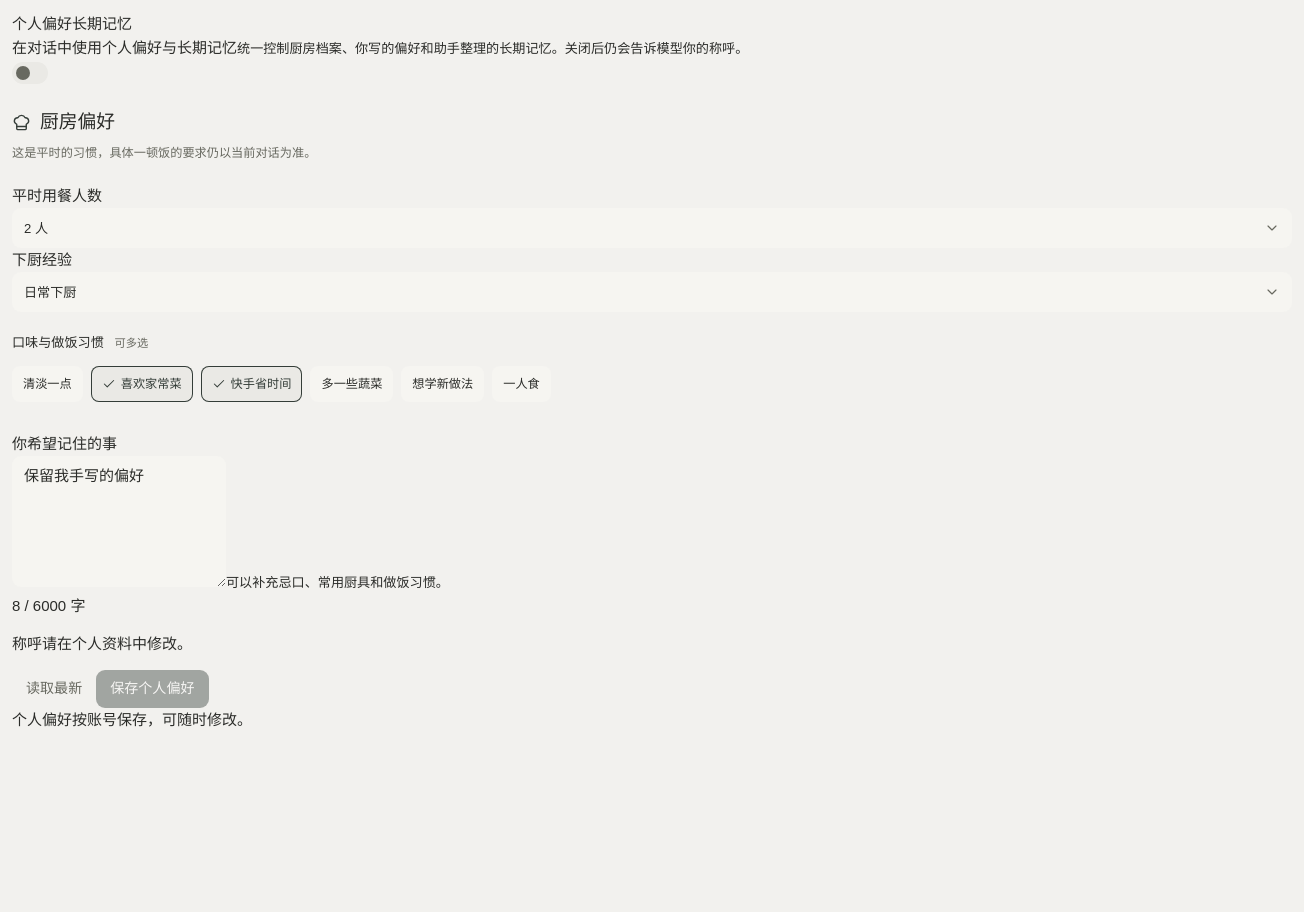
Test: Personal preferences and long-term memory › keeps editable kitchen fields visible while sharing is disabled and saves their shared flag together
Click the switch labelled "在对话中使用个人偏好与长期记忆": x=30, y=73 [12,62,48,84]
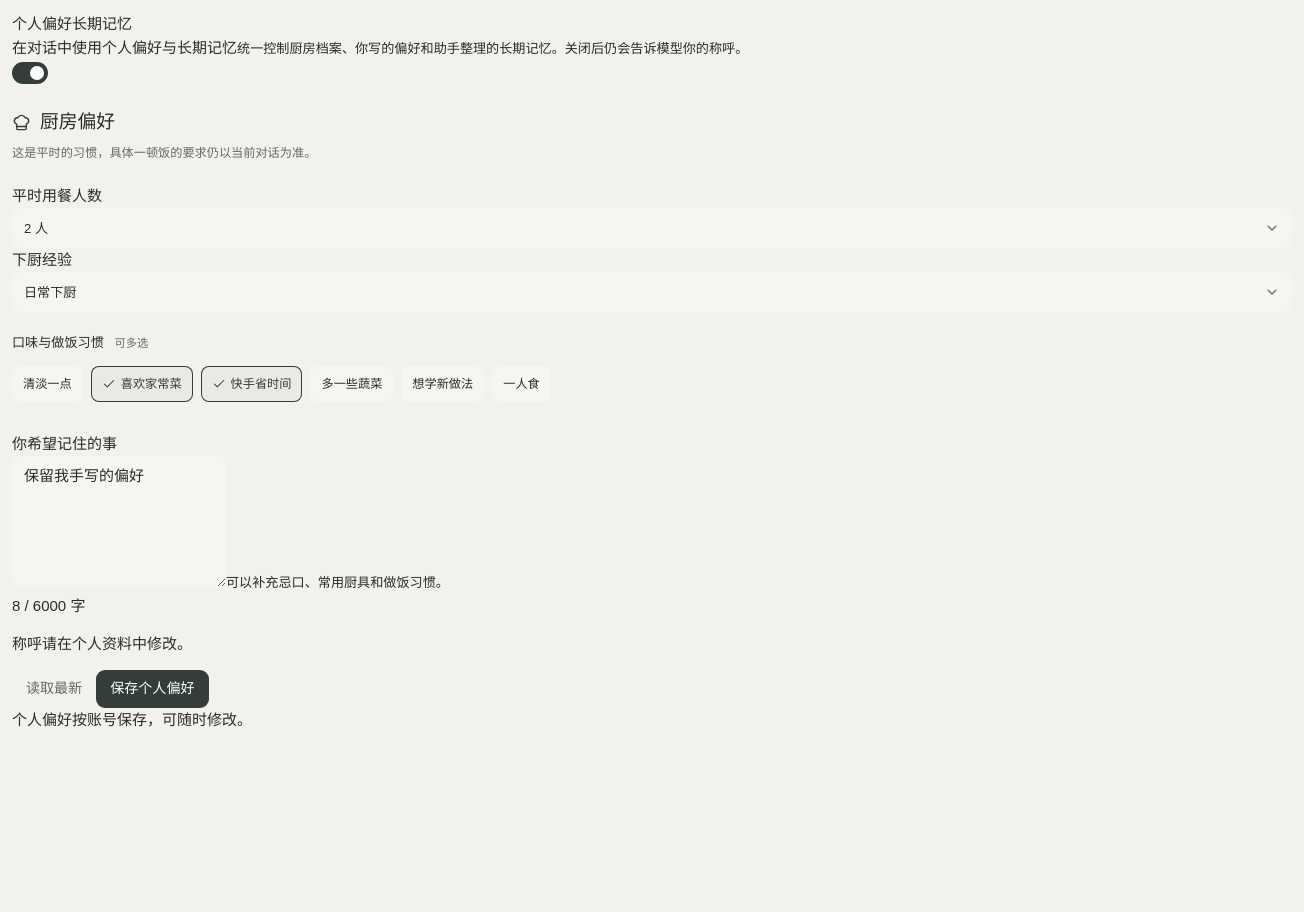
Click the button "快手省时间": x=252, y=384 [201,366,302,402]
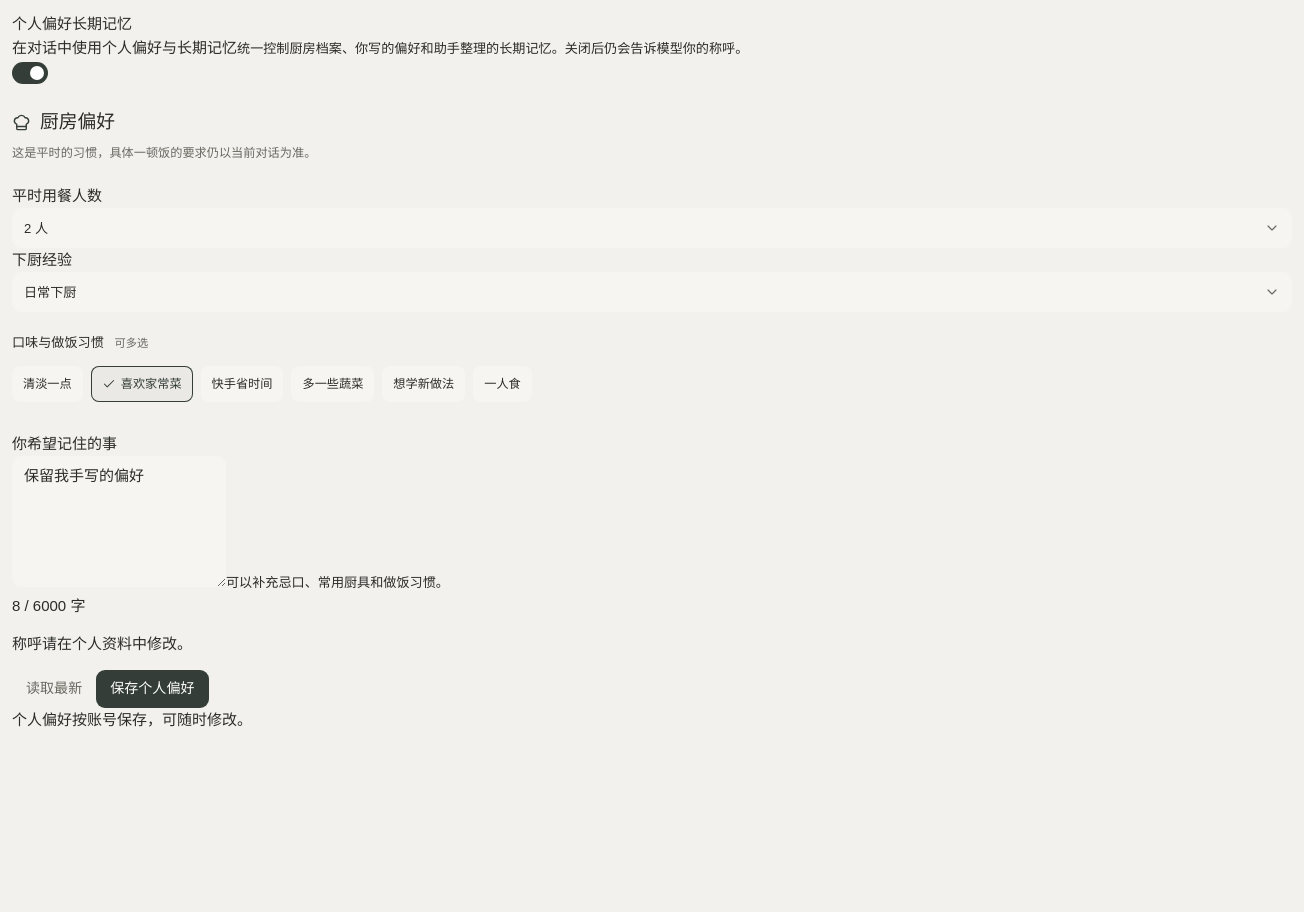
Click the button "保存个人偏好": x=152, y=689 [96,670,208,708]
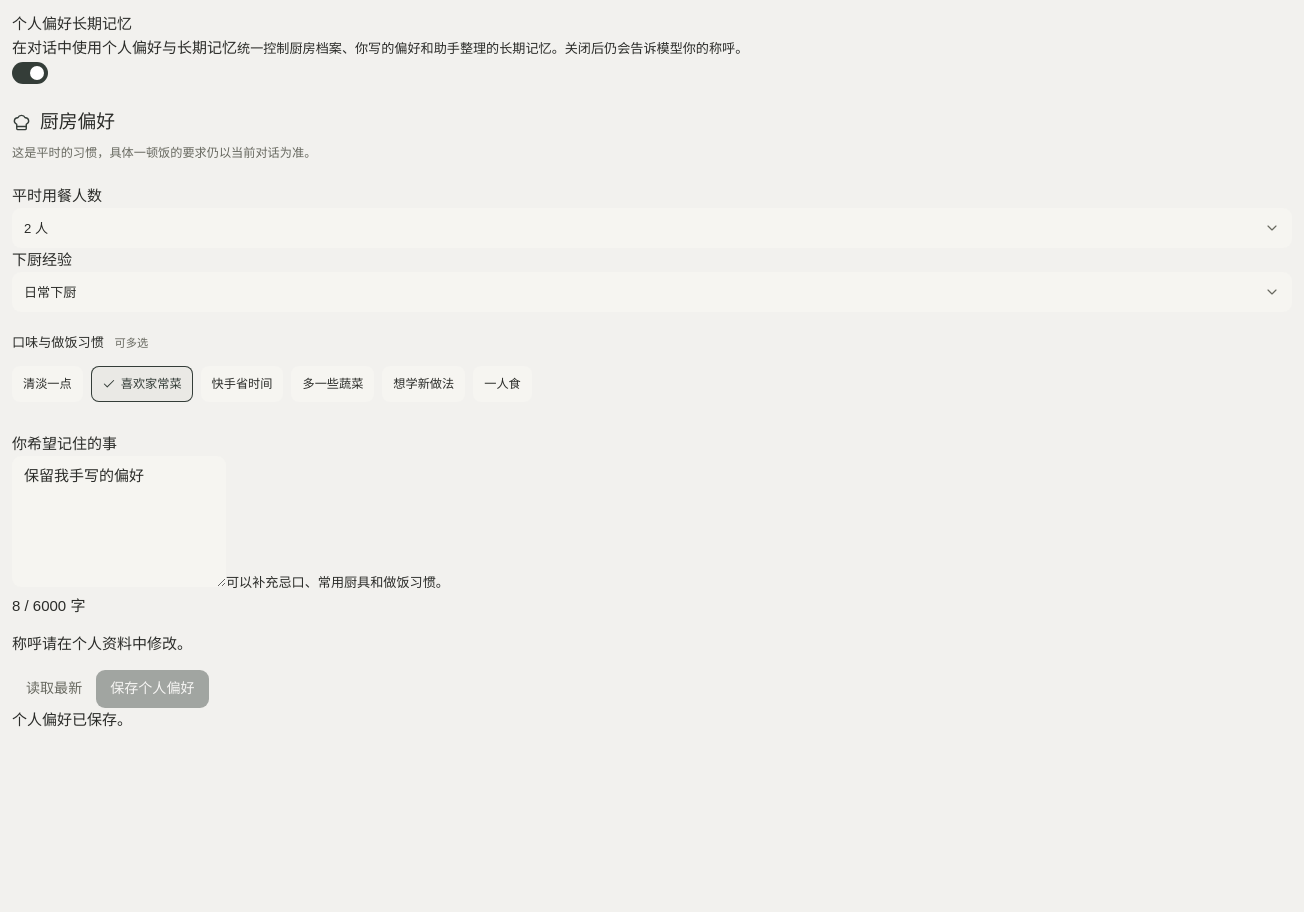
Now the text "个人偏好已保存。" is shown, box [12,711,132,728]
